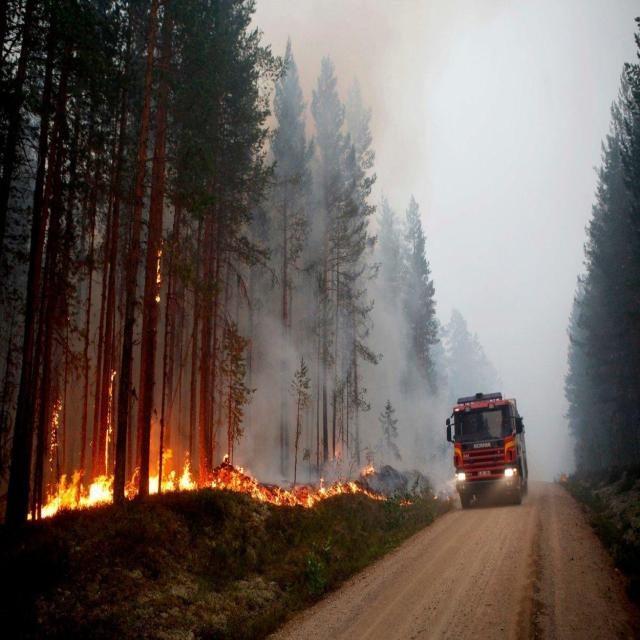Fire: (14, 423, 396, 538), (48, 400, 65, 455), (104, 367, 116, 422), (156, 235, 164, 288)
